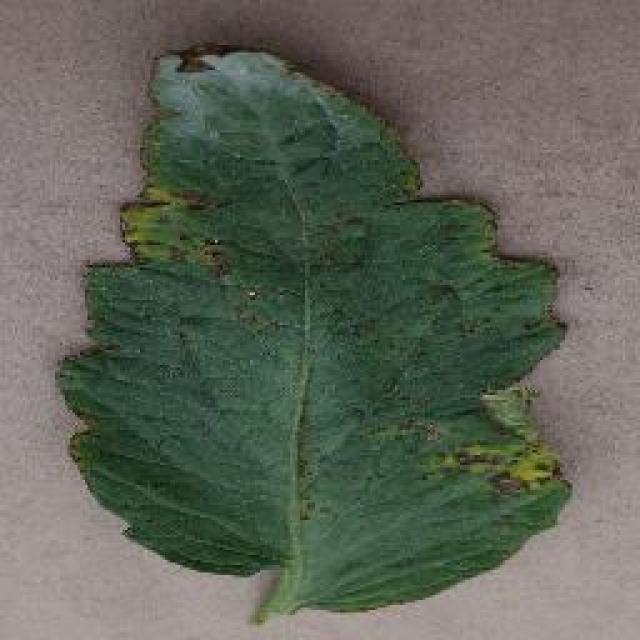bacterial spot: (52, 42, 569, 622)
